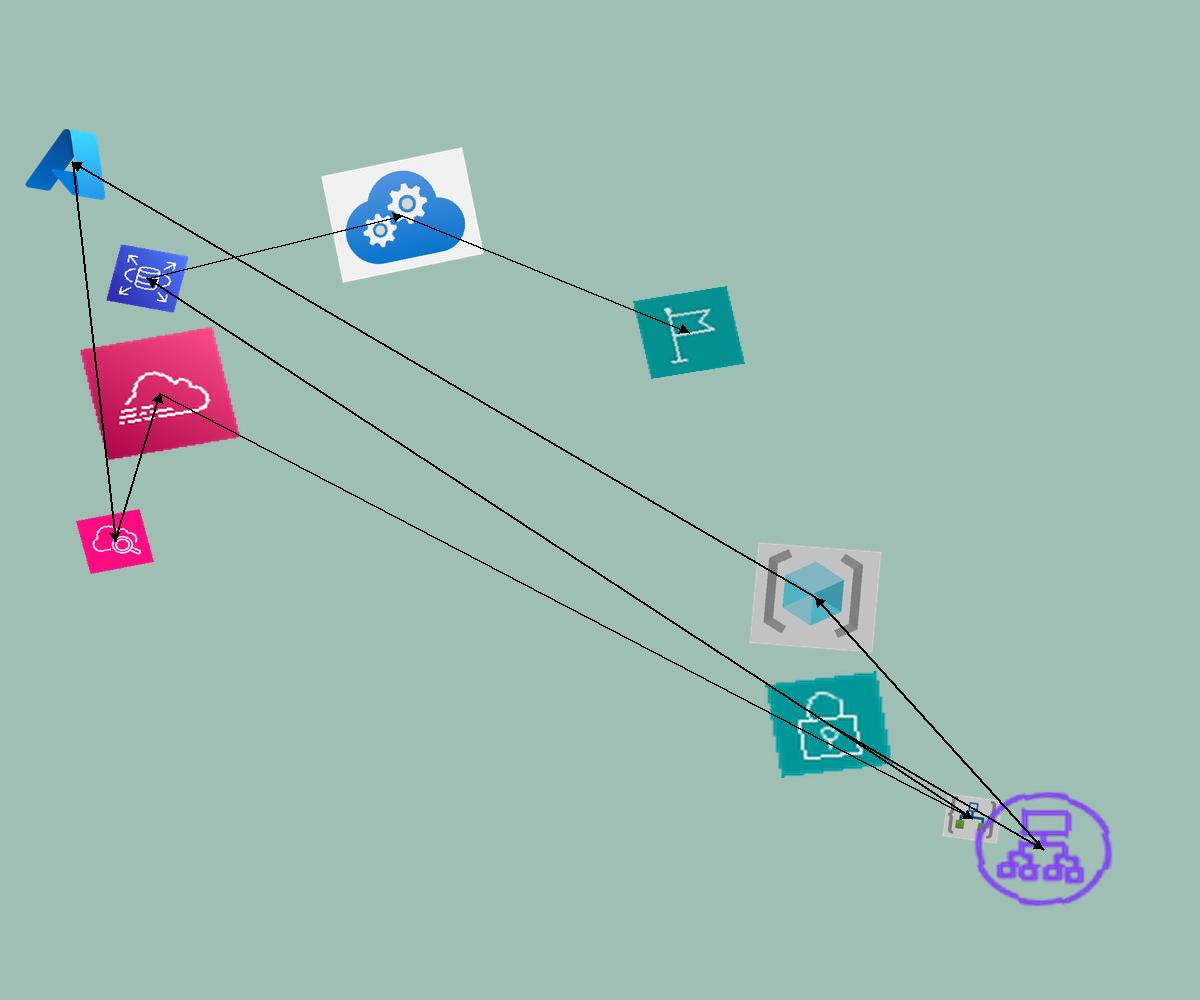AWS-CloudTrail: (79, 326, 241, 461)
AWS-CloudWatch: (76, 509, 154, 574)
AWS-Private-subnet: (765, 671, 893, 778)
AWS-RDS: (106, 244, 189, 313)
AWS-Region: (633, 286, 745, 379)
AWS-Res_Elastic-Load-Balancing_Application-Load-Balancer: (963, 782, 1124, 916)
Azure_cloud_services: (321, 147, 484, 283)
Azure_integration-204-Logic-Apps: (942, 793, 1003, 844)
Azure_resource_group: (749, 542, 882, 653)
Azure_services: (20, 119, 125, 206)
